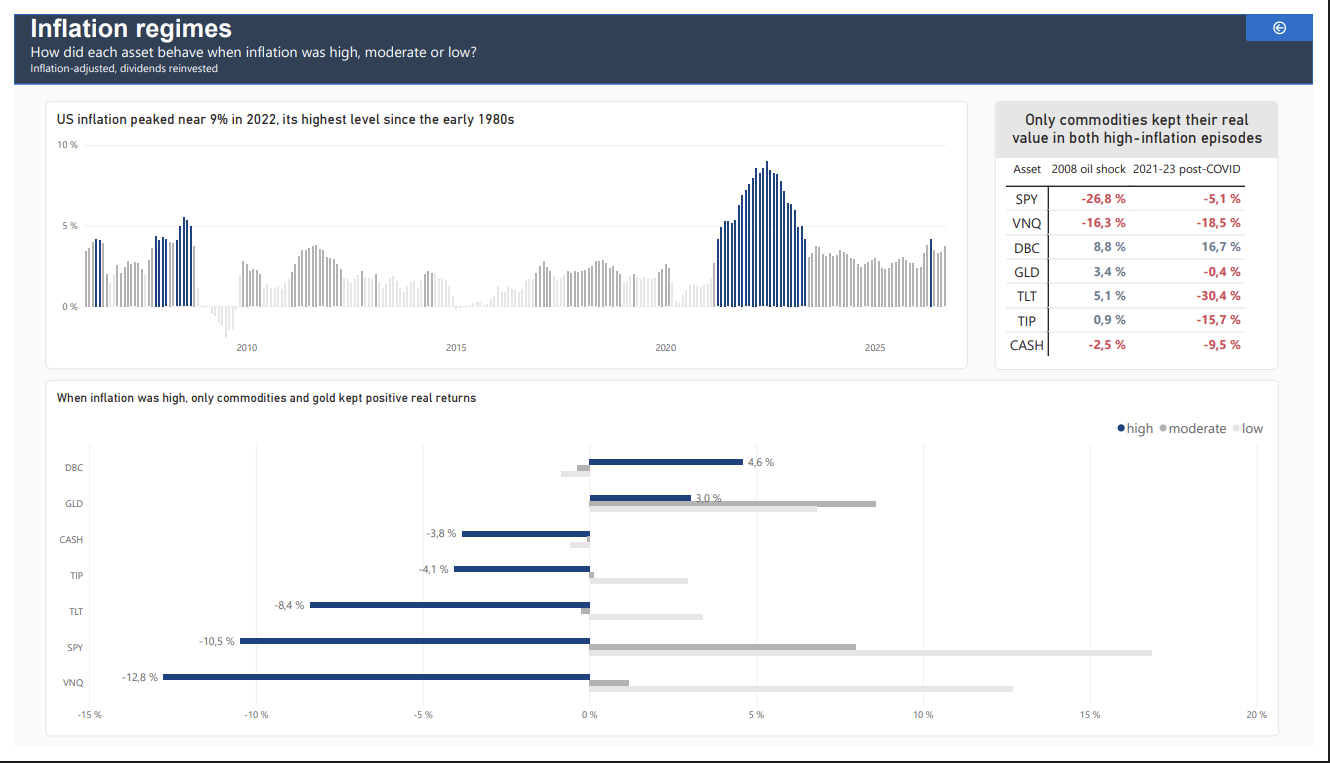

The dashboard page shown, as its layout file describes it:
{"tool":"powerbi","page":{"name":"Inflation regimes","canvas":[1920,1080],"ordinal":1},"visuals":[{"type":"shape","box":[0,0,1920.1,103.2],"z":0},{"type":"textbox","box":[24,0,544,52],"z":1000},{"type":"columnChart","title":"US inflation peaked near 9% in 2022, its highest level since the early 1980s","fields":{"Category":["d_Date.month"],"Y":["Sum(d_Date.yoy_inflation)"]},"box":[46,128,1364,396],"z":2000},{"type":"textbox","box":[24,40,1114,88],"z":3000},{"type":"clusteredBarChart","title":"When inflation was high, only commodities and gold kept positive real returns","fields":{"Category":["d_Asset.ticker"],"Series":["d_Date.regime"],"Y":["_Measures.Annualized Real Return"]},"box":[46,540,1824,526],"z":4000},{"type":"actionButton","box":[1820,0,100,40],"z":5000},{"type":"pivotTable","title":"Only commodities kept their real value in both high-inflation episodes","fields":{"Columns":["d_Date.episode"],"Rows":["d_Asset.ticker"],"Values":["_Measures.Cumulative Real Return"]},"box":[1450,128,420,396],"z":6000}]}

Visuals, with their boxes in screenshot pixels (x1, y1, x2, y2), scaled from the page's 1920x1080 canvas onto the 1330x763 screenshot:
shape: <region>0, 0, 1329, 73</region>
textbox: <region>17, 0, 393, 37</region>
"US inflation peaked near 9% in 2022, its highest level since the early 1980s" columnChart: <region>32, 90, 977, 370</region>
textbox: <region>17, 28, 788, 90</region>
"When inflation was high, only commodities and gold kept positive real returns" clusteredBarChart: <region>32, 382, 1295, 753</region>
actionButton: <region>1261, 0, 1329, 28</region>
"Only commodities kept their real value in both high-inflation episodes" pivotTable: <region>1004, 90, 1295, 370</region>
